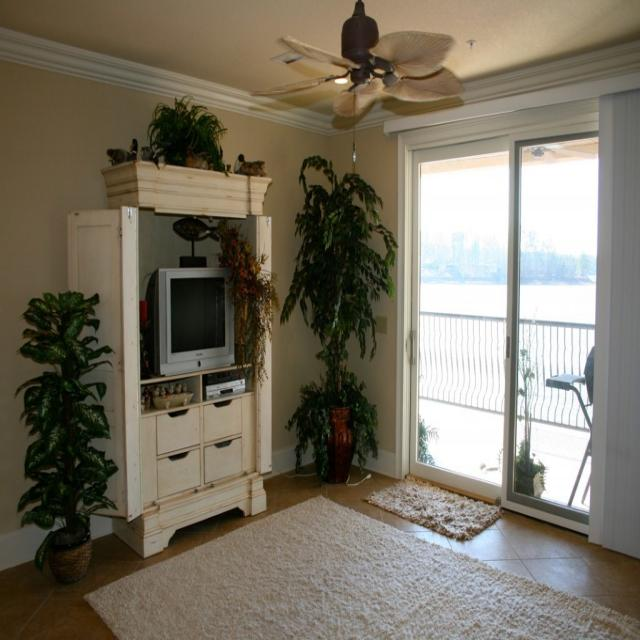Bulb: (246, 0, 466, 163)
